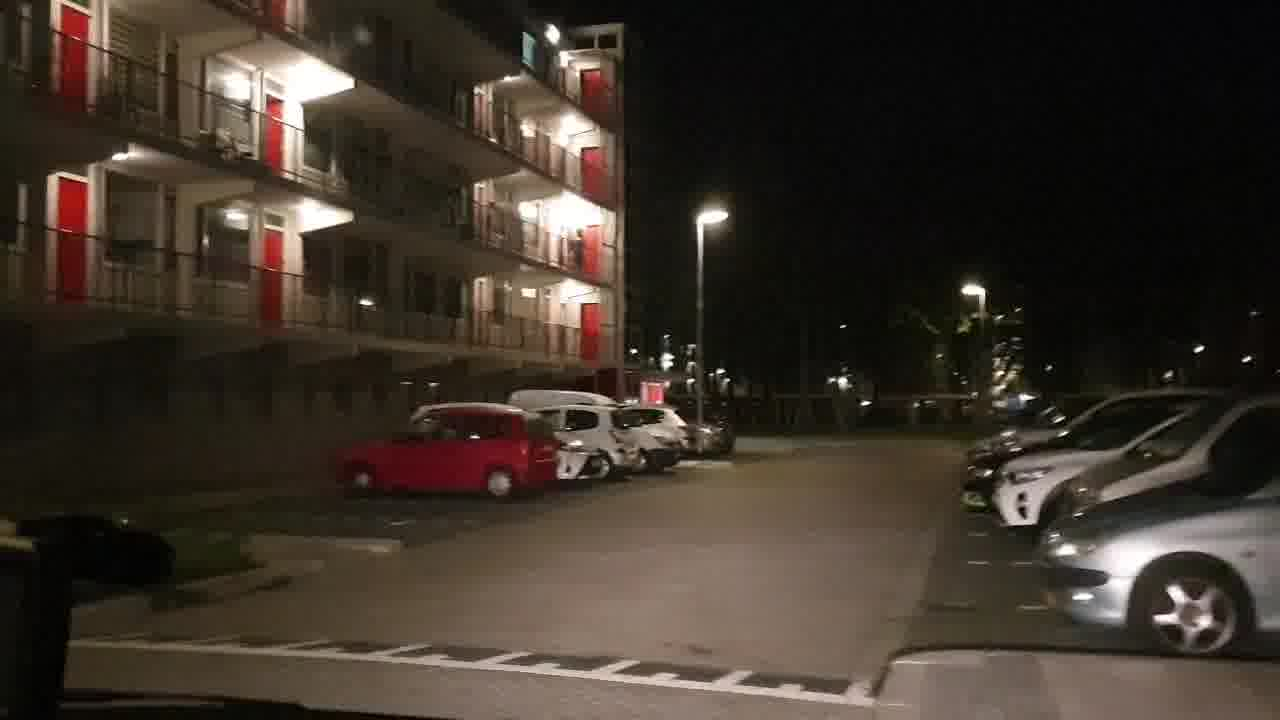car: (1052, 412, 1280, 648), (330, 406, 558, 506)
